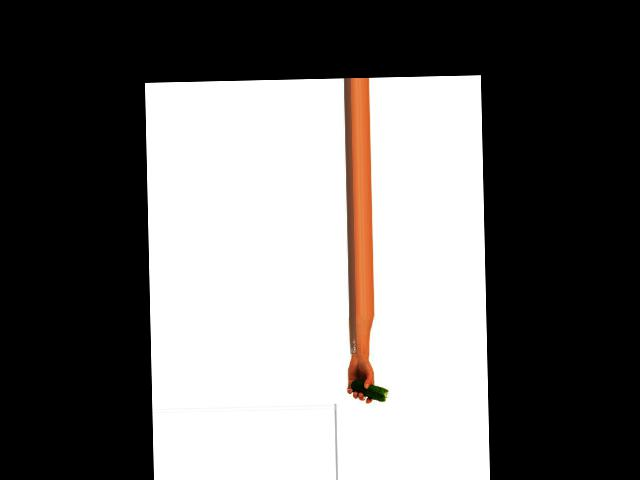cucumber: (349, 379, 388, 401)
